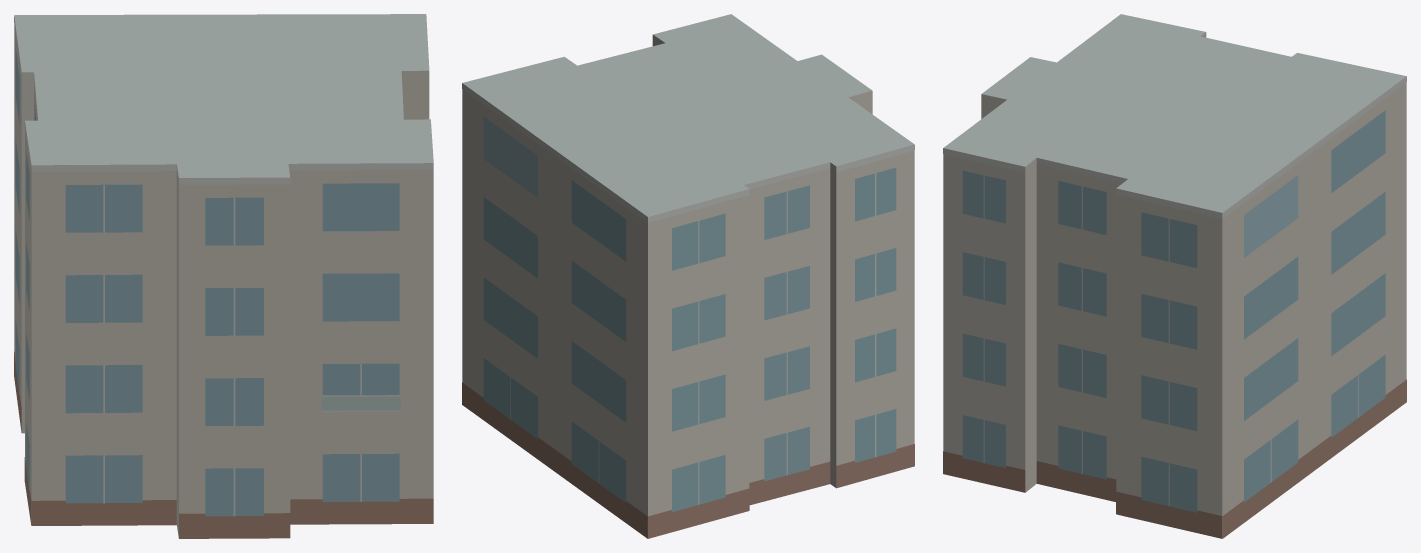
File: survey-upis-32801234.glb
The picture shows the model from 3 angles, left to right: view 1: azimuth 30°, elevation 25°; view 2: azimuth 150°, elevation 25°; view 3: azimuth 270°, elevation 25°; orthographic projection. The views are drawn at different scales.
Visible parts, largest first — view 1: survey-upis-32801234.tmp; view 2: survey-upis-32801234.tmp; view 3: survey-upis-32801234.tmp.
Part boxes in pixels (box(x1,y1,x2,y2)): survey-upis-32801234.tmp: box(14, 14, 433, 538); survey-upis-32801234.tmp: box(462, 14, 914, 538); survey-upis-32801234.tmp: box(943, 14, 1406, 538).
Bounding box in the file's own units: 17.28 × 13.2 × 17.03.
